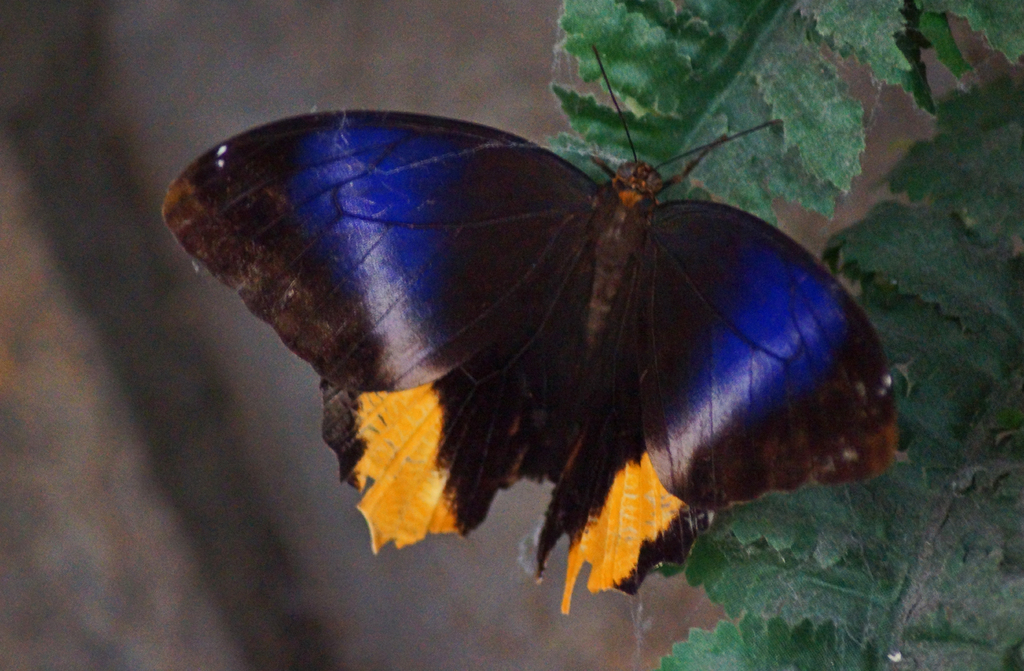Butterfly: (156, 86, 923, 602)
